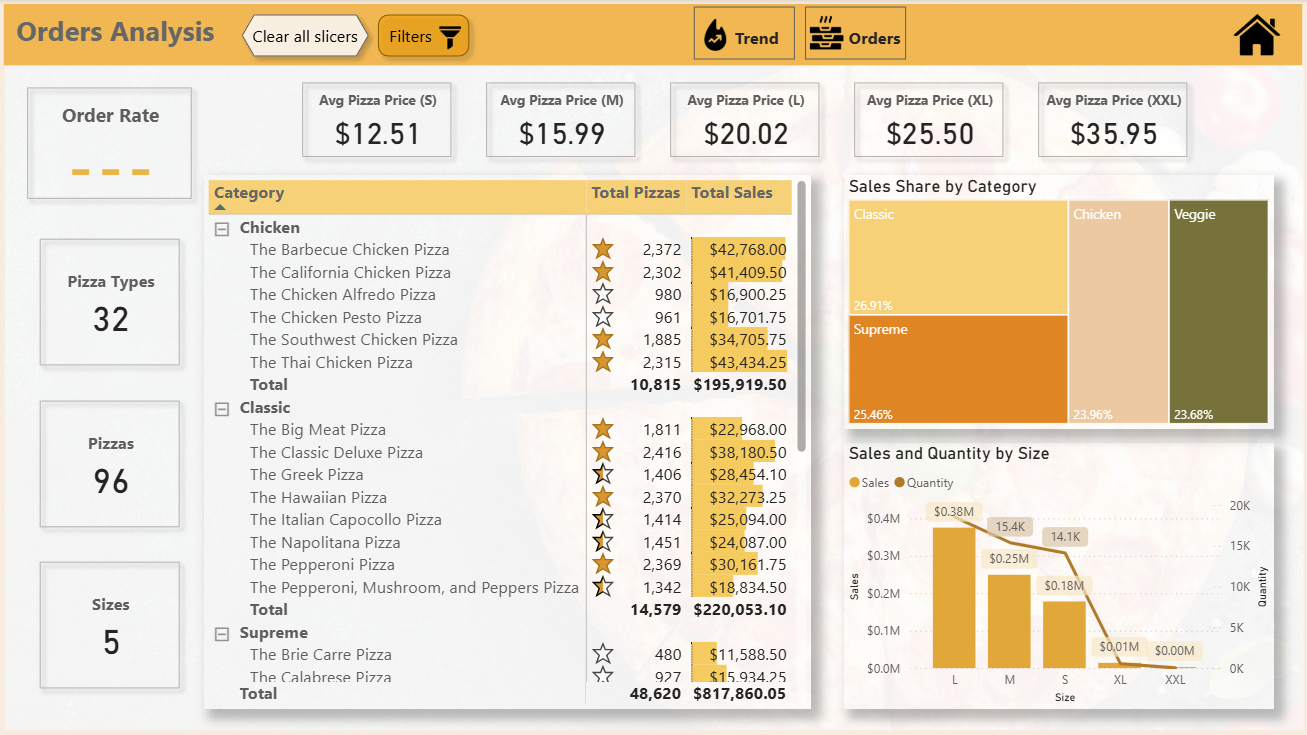

The page's visual inventory and layout, read from the dashboard file:
{"tool":"powerbi","page":{"name":"Orders Analysis","canvas":[1280,720],"ordinal":2},"visuals":[{"type":"image","box":[0,0,1280.3,720.2],"z":0},{"type":"group","id":"g1","title":"OrdersHeader","box":[4,5.2,1270.4,60.3],"z":0,"group":"g2"},{"type":"shape","box":[4,5.2,1270.4,60.3],"z":0,"group":"g1"},{"type":"image","box":[787.8,8.4,42.2,49.5],"z":0,"group":"g4"},{"type":"image","box":[676,14.4,47.1,41],"z":0,"group":"g3"},{"type":"group","id":"g2","title":"OrdersHeader","box":[4,5.2,1270.4,60.3],"z":1000},{"type":"actionButton","box":[678,7.2,98.9,51.9],"z":1000,"group":"g3"},{"type":"actionButton","box":[787.8,7.2,98.9,51.9],"z":1000,"group":"g4"},{"type":"image","box":[1202.8,7.2,55.5,55.5],"z":1000,"group":"g2"},{"type":"textbox","box":[11.3,7.4,210.3,47.7],"z":1000,"group":"g1"},{"type":"actionButton","box":[228,6,142.4,59.1],"z":2000,"group":"g1"},{"type":"group","id":"g3","title":"Group 1","box":[676,7.2,107.4,51.9],"z":2000,"group":"g2"},{"type":"textbox","box":[713.4,21.7,70,35],"z":2000,"group":"g3"},{"type":"textbox","box":[825.2,21.7,70,35],"z":2000,"group":"g4"},{"type":"cardVisual","fields":{"Data":["DAXMeasures.Pizza Types","DAXMeasures.Pizzas","DAXMeasures.Sizes"]},"box":[21.7,217.2,171.3,476.5],"z":2000},{"type":"actionButton","box":[360.7,6,107.4,59.1],"z":3000,"group":"g1"},{"type":"group","id":"g4","title":"Group 2","box":[787.8,7.2,107.4,51.9],"z":3000,"group":"g2"},{"type":"cardVisual","fields":{"Data":["DAXMeasures.AvgPriceSmall","DAXMeasures.AvgPriceMedium","DAXMeasures.AvgPriceLarge","DAXMeasures.AvgPriceXL","DAXMeasures.AvgPriceXXL"]},"box":[278.8,64.8,901.2,107.6],"z":3000},{"type":"image","box":[424.6,19.3,32.6,36.2],"z":4000,"group":"g1"},{"type":"treemap","fields":{"Values":["DAXMeasures.Total Sales"],"Group":["DimPizzas.Category"]},"box":[825.4,172.4,420.7,248.2],"z":4000},{"type":"pivotTable","fields":{"Rows":["DimPizzas.Category","DimPizzas.Name"],"Values":["DAXMeasures.Total Pizzas","DAXMeasures.Total Sales"]},"box":[199.3,172.4,594.3,522.1],"z":5000},{"type":"lineClusteredColumnComboChart","fields":{"Category":["DimPizzas.Size"],"Y":["DAXMeasures.Total Sales"],"Y2":["DAXMeasures.Total Pizzas"]},"box":[825.4,434.1,420.7,260.5],"z":6000},{"type":"cardVisual","title":"Order Rate","fields":{"Data":["DAXMeasures.DynOrderRate"]},"box":[9.8,69.7,195.7,143.1],"z":7000}]}

Visuals, with their boxes in screenshot pixels (x1, y1, x2, y2), scaled from the page's 1280x720 canvas onto the 1307x735 screenshot:
image: <region>0, 0, 1306, 734</region>
"OrdersHeader" group: <region>4, 5, 1301, 67</region>
shape: <region>4, 5, 1301, 67</region>
image: <region>804, 9, 848, 59</region>
image: <region>690, 15, 738, 57</region>
"OrdersHeader" group: <region>4, 5, 1301, 67</region>
actionButton: <region>692, 7, 793, 60</region>
actionButton: <region>804, 7, 905, 60</region>
image: <region>1228, 7, 1285, 64</region>
textbox: <region>12, 8, 226, 56</region>
actionButton: <region>233, 6, 378, 66</region>
"Group 1" group: <region>690, 7, 800, 60</region>
textbox: <region>728, 22, 800, 58</region>
textbox: <region>843, 22, 914, 58</region>
cardVisual - DAXMeasures.Pizza Types x DAXMeasures.Pizzas: <region>22, 222, 197, 708</region>
actionButton: <region>368, 6, 478, 66</region>
"Group 2" group: <region>804, 7, 914, 60</region>
cardVisual - DAXMeasures.AvgPriceSmall x DAXMeasures.AvgPriceMedium: <region>285, 66, 1205, 176</region>
image: <region>434, 20, 467, 57</region>
treemap - DAXMeasures.Total Sales x DimPizzas.Category: <region>843, 176, 1272, 429</region>
pivotTable - DimPizzas.Category x DimPizzas.Name: <region>204, 176, 810, 709</region>
lineClusteredColumnComboChart - DimPizzas.Size x DAXMeasures.Total Sales: <region>843, 443, 1272, 709</region>
"Order Rate" cardVisual: <region>10, 71, 210, 217</region>
